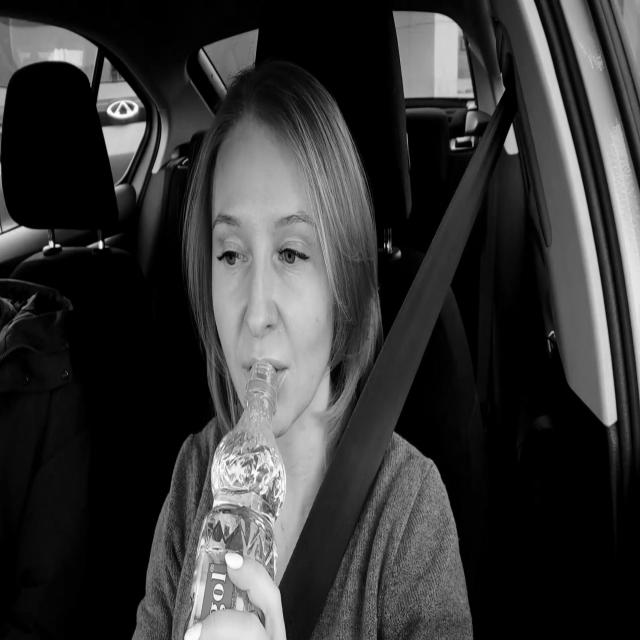Drinking: (182, 361, 288, 640)
Seatbelt: (279, 81, 517, 640)
